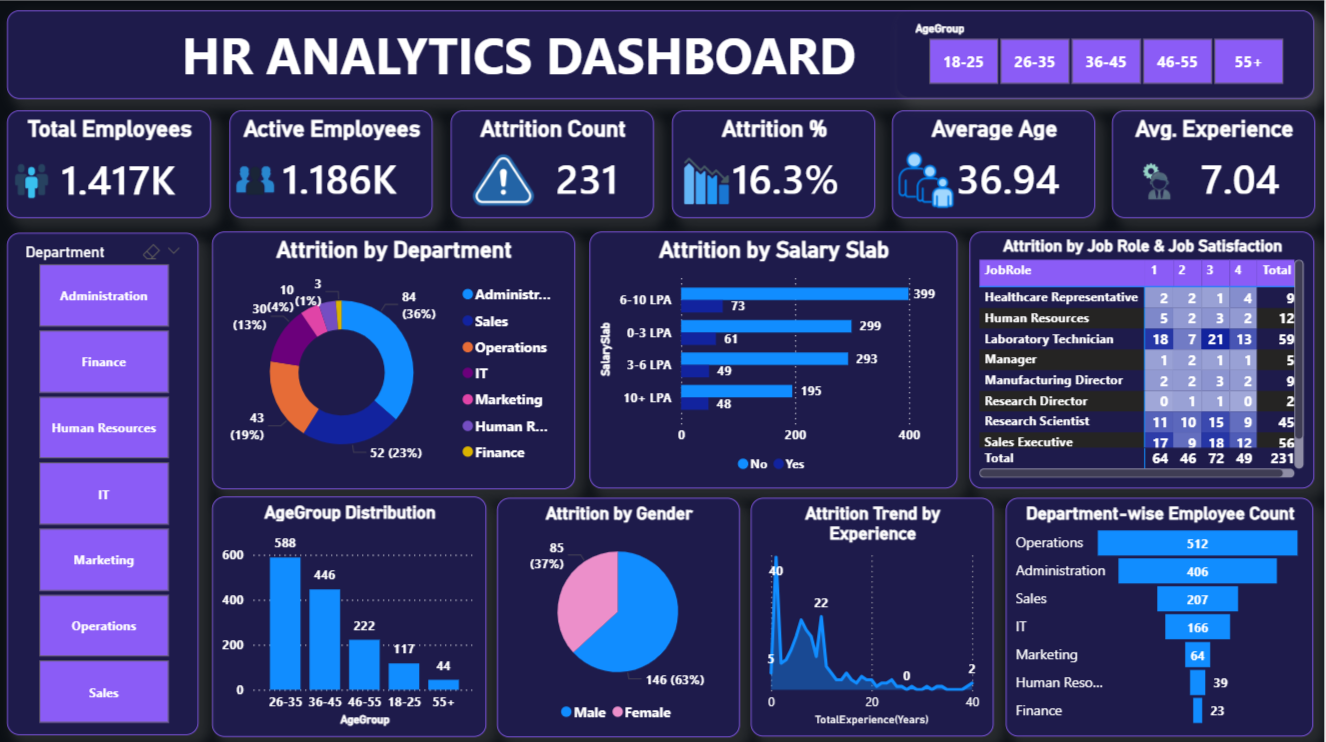

The page's visual inventory and layout, read from the dashboard file:
{"tool":"powerbi","page":{"name":"Page 1","canvas":[1280,720],"ordinal":0},"visuals":[{"type":"textbox","box":[8.4,9.7,1261.9,85.7],"z":0},{"type":"cardVisual","title":"Total Employees","fields":{"Data":["CountNonNull(HR_Analytics-4.EmpID)"]},"box":[8.5,106,197,104],"z":1000},{"type":"cardVisual","title":"Active Employees","fields":{"Data":["CountNonNull(HR_Analytics-4.EmployeeCount)"]},"box":[223.8,106.2,196.2,103.8],"z":2000},{"type":"cardVisual","title":"Attrition Count","fields":{"Data":["Sum(HR_Analytics-4.AttritionCount)"]},"box":[436.2,106.2,196.2,103.8],"z":3000},{"type":"cardVisual","title":"Attrition %","fields":{"Data":["HR_Analytics-4.Attrition Rate %"]},"box":[650,106.2,196.2,103.8],"z":4000},{"type":"cardVisual","title":"Average Age","fields":{"Data":["Avg(HR_Analytics-4.Age)"]},"box":[862.5,106.2,196.2,103.8],"z":5000},{"type":"cardVisual","title":"Avg. Experience","fields":{"Data":["Avg(HR_Analytics-4.YearsatCompany)"]},"box":[1075,106.2,196.2,103.8],"z":6000},{"type":"image","box":[9.7,149.6,44.6,49.5],"z":7000},{"type":"image","box":[1084.2,143.3,70,62.5],"z":8000},{"type":"image","box":[868.8,142.5,53.8,62.5],"z":9000},{"type":"image","box":[661.1,149.6,44.6,49.5],"z":10000},{"type":"image","box":[225.6,148.4,44.6,50.7],"z":11000},{"type":"image","box":[452.5,142.5,70,62.5],"z":12000},{"type":"donutChart","title":"Attrition by Department","fields":{"Y":["Sum(HR_Analytics-4.AttritionCount)"],"Category":["HR_Analytics-4.Department"]},"box":[206.2,223.8,350,248.8],"z":13000},{"type":"clusteredBarChart","title":"Attrition by Salary Slab","fields":{"Y":["CountNonNull(HR_Analytics-4.EmpID)"],"Category":["HR_Analytics-4.SalarySlab"],"Series":["HR_Analytics-4.Attrition"]},"box":[571,223,355,248],"z":14000},{"type":"pivotTable","title":"Attrition by Job Role & Job Satisfaction","fields":{"Rows":["HR_Analytics-4.JobRole"],"Columns":["HR_Analytics-4.JobSatisfaction"],"Values":["Sum(HR_Analytics-4.AttritionCount)"]},"box":[937.4,223.2,333,248],"z":15000},{"type":"columnChart","title":"AgeGroup Distribution","fields":{"Category":["HR_Analytics-4.AgeGroup"],"Y":["Sum(HR_Analytics-4.EmployeeCount)"]},"box":[206.3,479,265,231.6],"z":16000},{"type":"pieChart","title":"Attrition by Gender","fields":{"Category":["HR_Analytics-4.Gender"],"Y":["Sum(HR_Analytics-4.AttritionCount)"]},"box":[481,480,234,231],"z":17000},{"type":"areaChart","title":"Attrition Trend by Experience","fields":{"Y":["Sum(HR_Analytics-4.AttritionCount)"],"Category":["HR_Analytics-4.TotalExperience(Years)"]},"box":[726.3,480.2,234,230.4],"z":18000},{"type":"funnel","title":"Department-wise Employee Count","fields":{"Category":["HR_Analytics-4.Department"],"Y":["CountNonNull(HR_Analytics-4.EmpID)"]},"box":[972.4,480.2,297,230.4],"z":18001},{"type":"slicer","fields":{"Values":["HR_Analytics-4.Department"]},"box":[9,224,185,485],"z":18002},{"type":"slicer","fields":{"Values":["HR_Analytics-4.AgeGroup"]},"box":[867.4,10.9,401.7,82],"z":18003}]}

Visuals, with their boxes in screenshot pixels (x1, y1, x2, y2), scaled from the page's 1280x720 canvas onto the 1326x742 screenshot:
textbox: bbox(9, 10, 1316, 98)
"Total Employees" cardVisual: bbox(9, 109, 213, 216)
"Active Employees" cardVisual: bbox(232, 109, 435, 216)
"Attrition Count" cardVisual: bbox(452, 109, 655, 216)
"Attrition %" cardVisual: bbox(673, 109, 877, 216)
"Average Age" cardVisual: bbox(893, 109, 1097, 216)
"Avg. Experience" cardVisual: bbox(1114, 109, 1317, 216)
image: bbox(10, 154, 56, 205)
image: bbox(1123, 148, 1196, 212)
image: bbox(900, 147, 956, 211)
image: bbox(685, 154, 731, 205)
image: bbox(234, 153, 280, 205)
image: bbox(469, 147, 541, 211)
"Attrition by Department" donutChart: bbox(214, 231, 576, 487)
"Attrition by Salary Slab" clusteredBarChart: bbox(592, 230, 959, 485)
"Attrition by Job Role & Job Satisfaction" pivotTable: bbox(971, 230, 1316, 486)
"AgeGroup Distribution" columnChart: bbox(214, 494, 488, 732)
"Attrition by Gender" pieChart: bbox(498, 495, 741, 733)
"Attrition Trend by Experience" areaChart: bbox(752, 495, 995, 732)
"Department-wise Employee Count" funnel: bbox(1007, 495, 1315, 732)
slicer - HR_Analytics-4.Department: bbox(9, 231, 201, 731)
slicer - HR_Analytics-4.AgeGroup: bbox(899, 11, 1315, 96)
